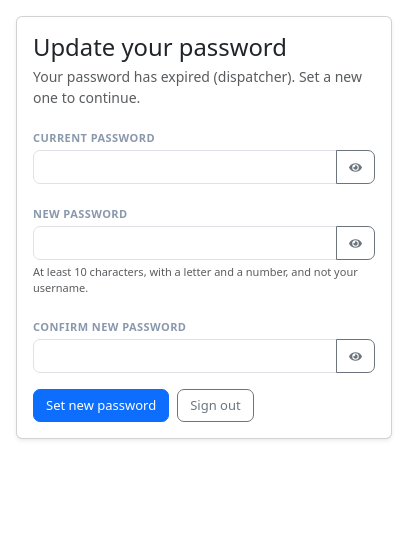
Test: ChangePasswordPage › refuses to submit when the confirmation does not match
Type "OldPass1234" into the password field labelled "Current password" at (185, 167), box [33,150,337,184]
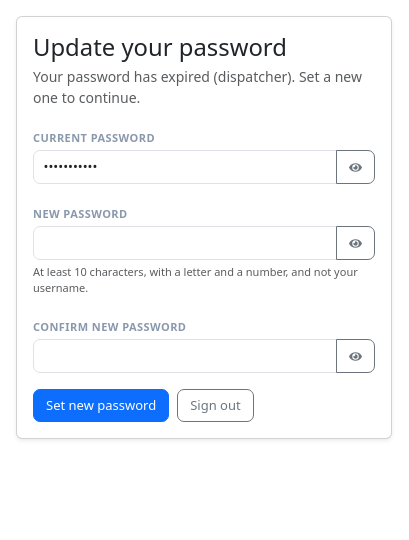
Type "NewPass5678" into the password field labelled "New password" at (185, 243), box [33,226,337,260]
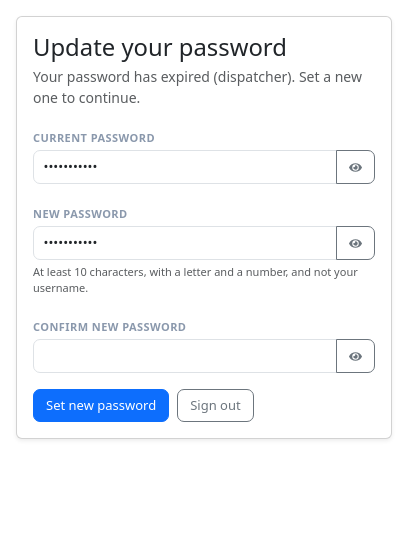
Type "Mismatch9999" into the password field labelled "Confirm new password" at (185, 356), box [33,339,337,373]
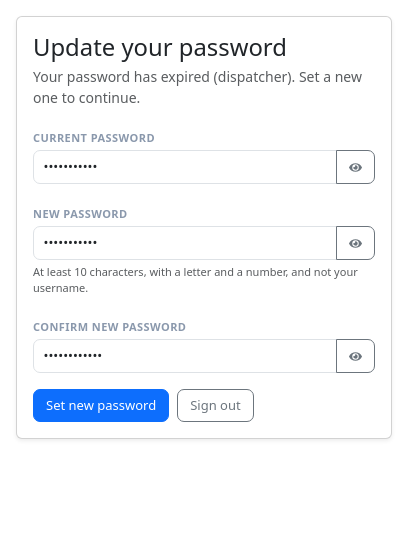
Click the button "Set new password" at (101, 405), box [33,389,169,422]
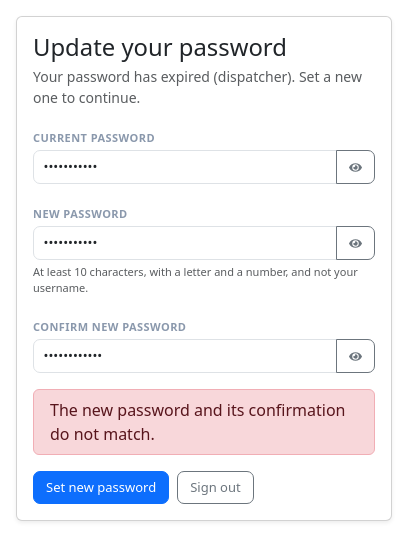
Now the text "The new password and its confirmation do not match." is shown, box [33,389,375,455]
